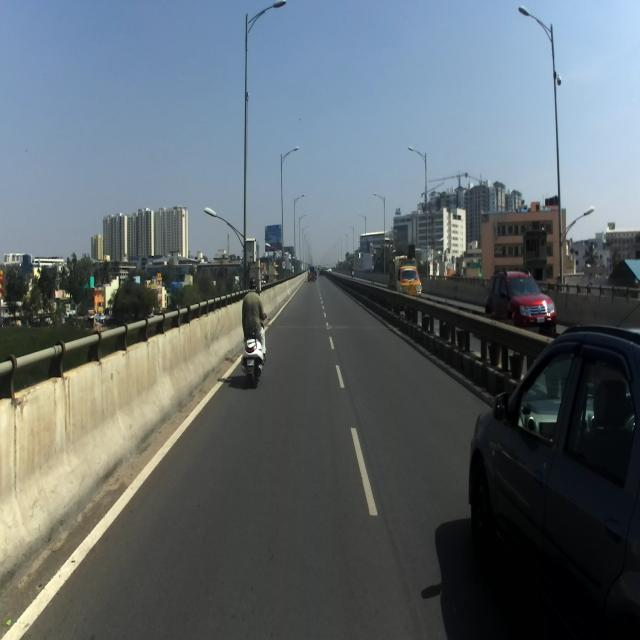car ahead at: (468, 322, 640, 640)
